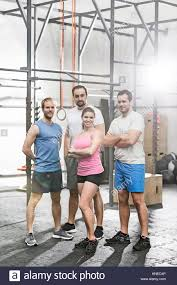person: (22, 97, 62, 154), (111, 94, 142, 146), (74, 109, 102, 166), (67, 84, 105, 125)
